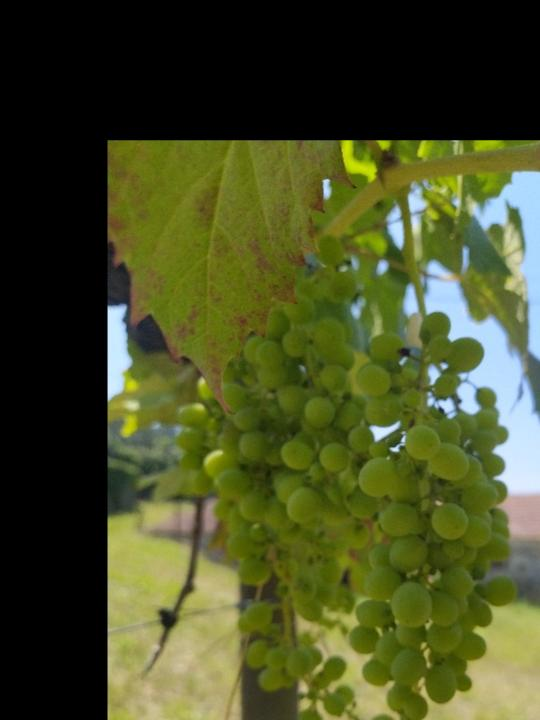grape: (176, 232, 369, 720), (355, 310, 520, 720)
